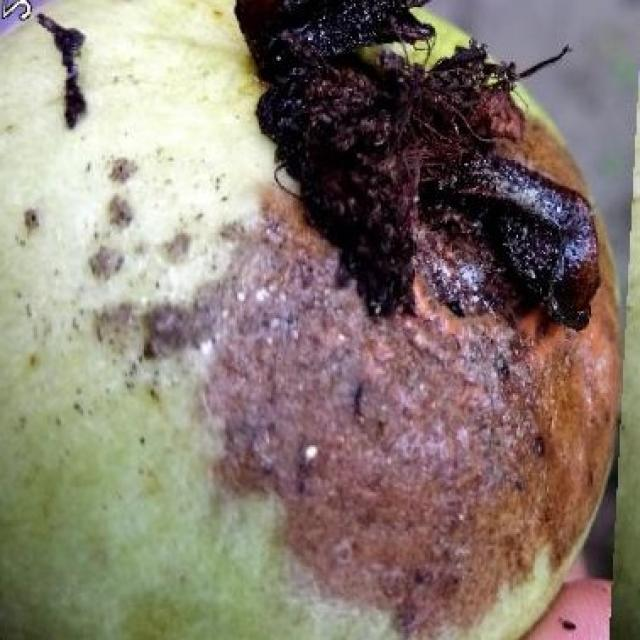Styler and Root: (0, 3, 620, 637)
